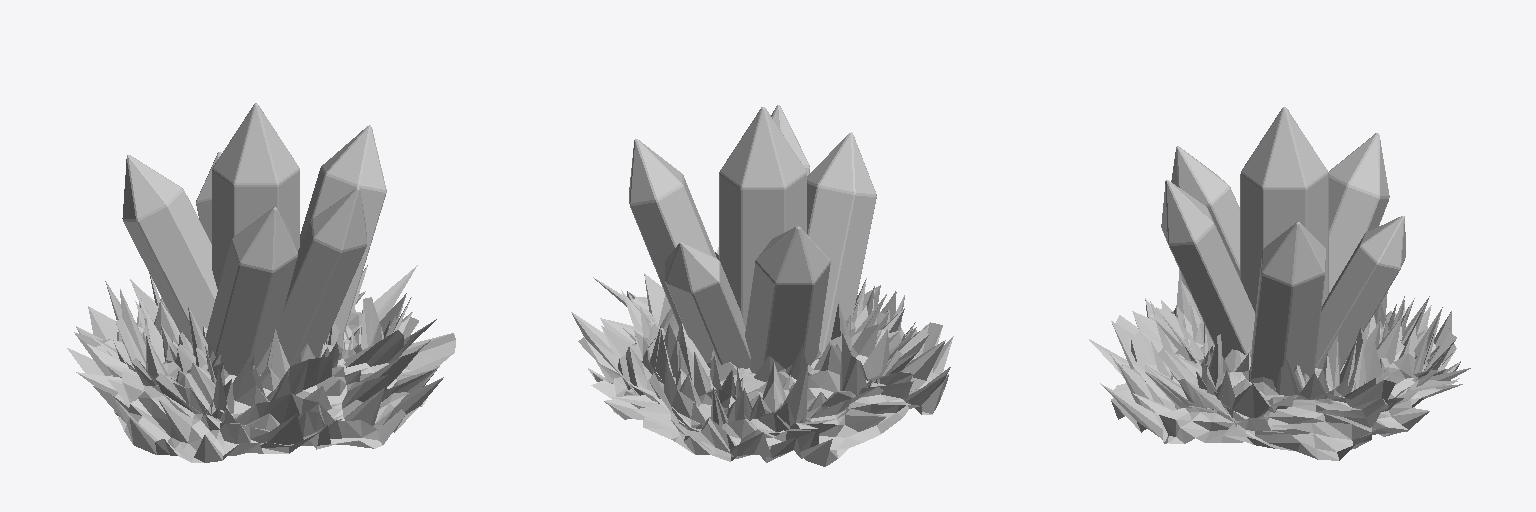
The model's file is Kristalle.obj.
The picture shows the model from 3 angles: view 1: azimuth 30°, elevation 25°; view 2: azimuth 150°, elevation 25°; view 3: azimuth 270°, elevation 25°; orthographic projection.
Visible parts, largest first — view 1: Cube_Cube.002, Cylinder.003, Cylinder.002_Cylinder.003, Cylinder_Cylinder.003, Cylinder.005, Cylinder.001_Cylinder.003, Cylinder.004; view 2: Cube_Cube.002, Cylinder_Cylinder.003, Cylinder.003, Cylinder.002_Cylinder.003, Cylinder.004, Cylinder.001_Cylinder.003, Cylinder.005; view 3: Cube_Cube.002, Cylinder_Cylinder.003, Cylinder.001_Cylinder.003, Cylinder.005, Cylinder.004, Cylinder.003, Cylinder.002_Cylinder.003.
Boxes of the visible parts, <box> form: Cube_Cube.002: <box>67,265,455,462</box>; Cylinder.003: <box>122,155,217,344</box>; Cylinder.002_Cylinder.003: <box>205,207,297,375</box>; Cylinder_Cylinder.003: <box>212,103,299,288</box>; Cylinder.005: <box>277,188,366,365</box>; Cylinder.001_Cylinder.003: <box>300,125,386,334</box>; Cylinder.004: <box>196,152,221,243</box>; Cube_Cube.002: <box>571,247,953,466</box>; Cylinder_Cylinder.003: <box>719,107,806,328</box>; Cylinder.003: <box>745,226,830,373</box>; Cylinder.002_Cylinder.003: <box>807,132,876,358</box>; Cylinder.004: <box>665,242,750,368</box>; Cylinder.001_Cylinder.003: <box>629,139,716,325</box>; Cylinder.005: <box>771,105,809,175</box>; Cube_Cube.002: <box>1089,269,1470,460</box>; Cylinder_Cylinder.003: <box>1240,107,1328,312</box>; Cylinder.001_Cylinder.003: <box>1250,222,1326,388</box>; Cylinder.005: <box>1161,180,1254,357</box>; Cylinder.004: <box>1315,216,1405,370</box>; Cylinder.003: <box>1328,133,1389,292</box>; Cylinder.002_Cylinder.003: <box>1171,146,1239,276</box>.
Size of the model in its own units: 8.85 by 7.44 by 8.67.